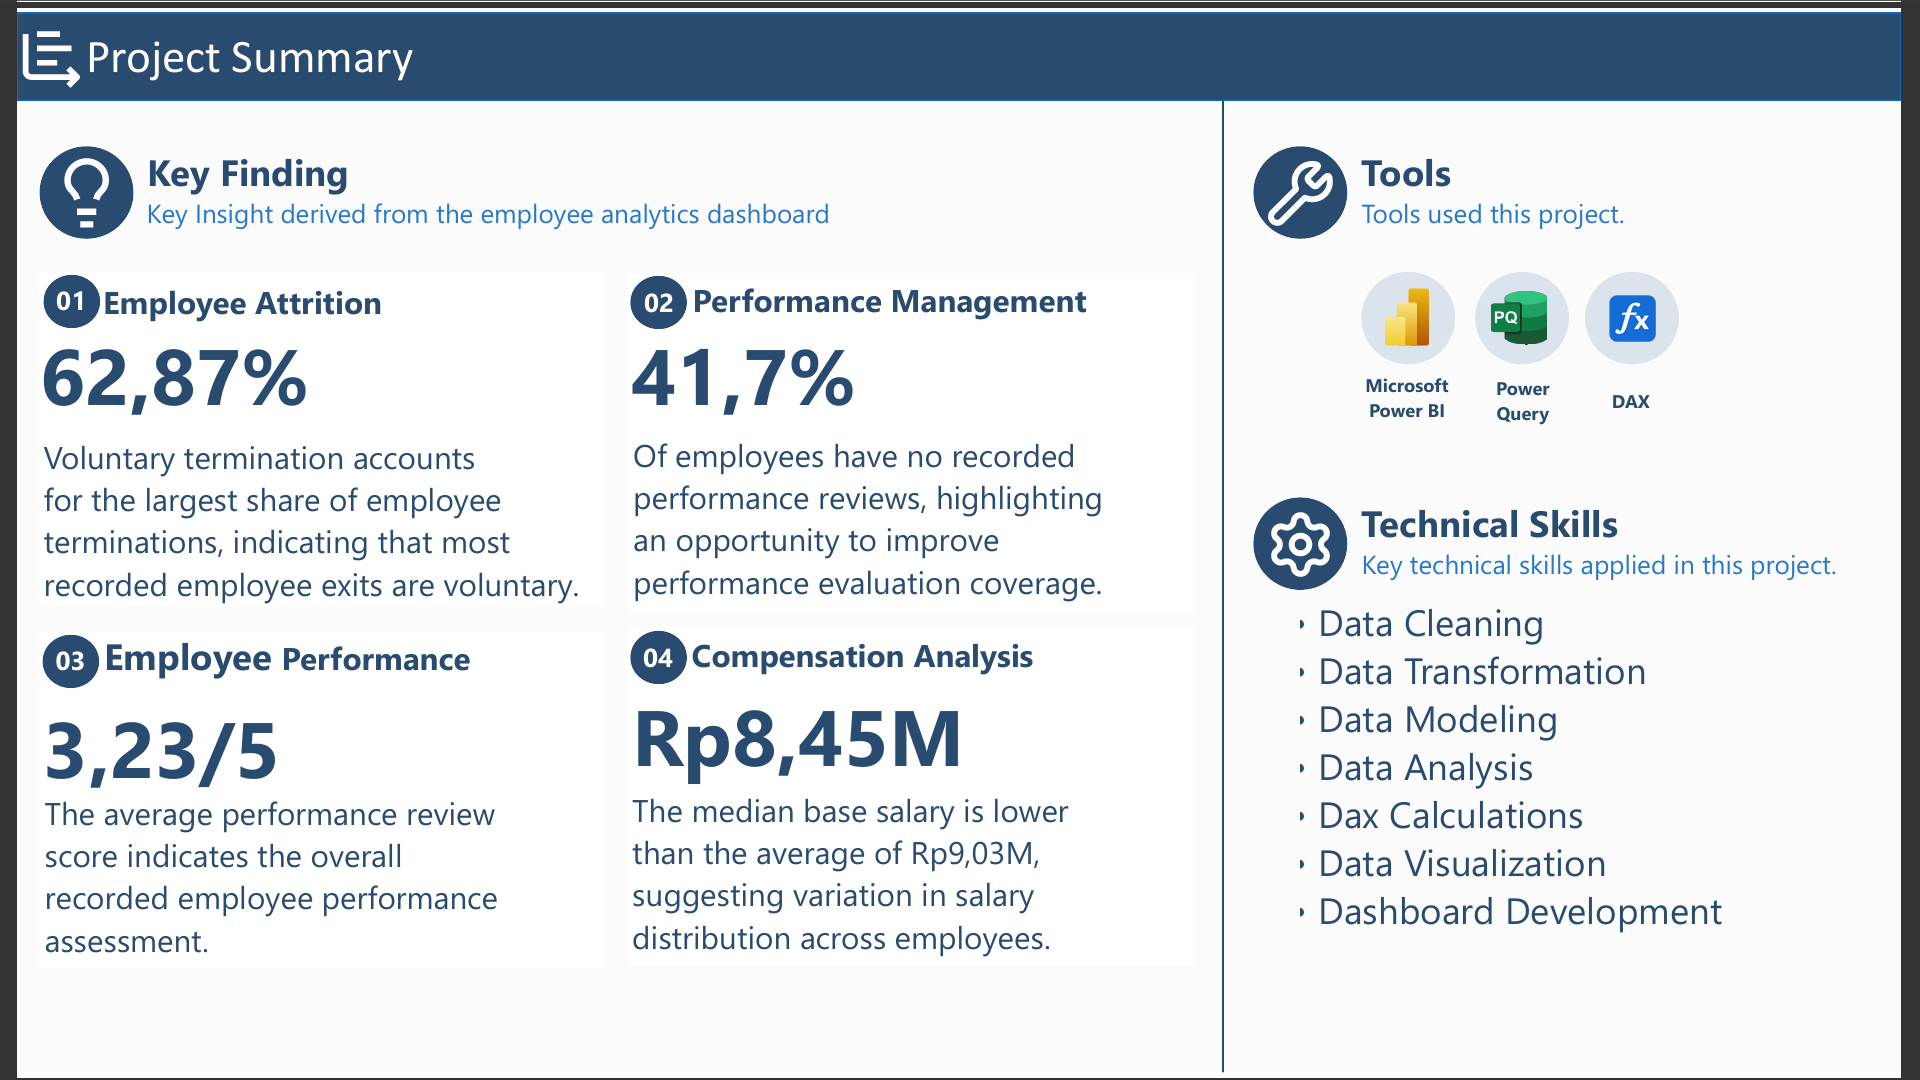

This screenshot's page, from the dashboard's own definition file:
{"tool":"powerbi","page":{"name":"Summary","canvas":[1920,1080],"ordinal":3},"visuals":[{"type":"shape","box":[0,0,1920,89.7],"z":0},{"type":"textbox","box":[70,14,750,76],"z":1000},{"type":"image","box":[0,0,70,90],"z":2000},{"type":"textbox","box":[132,136,716,94],"z":3000},{"type":"shape","box":[22.9,136.4,95.7,94.3],"z":4000},{"type":"image","box":[32.1,142.1,77.9,82.9],"z":5000},{"type":"shape","box":[23.3,263.3,576.7,343.3],"z":6000},{"type":"textbox","box":[26.7,266.7,573.3,343.3],"z":7000},{"type":"textbox","box":[22.9,314.3,295.7,105.7],"z":8000},{"type":"shape","box":[26.7,266.7,57.8,54.4],"z":9000},{"type":"textbox","box":[40,274.1,40.7,40.7],"z":10000},{"type":"shape","box":[623.3,266.7,576.7,343.3],"z":11000},{"type":"textbox","box":[627.5,265,572.5,340],"z":12000},{"type":"shape","box":[625.3,268.2,57.8,54.4],"z":13000},{"type":"textbox","box":[638.7,275.6,40.7,40.7],"z":14000},{"type":"textbox","box":[626,314,295.7,105.7],"z":15000},{"type":"shape","box":[23.3,631.1,576.7,343.3],"z":16000},{"type":"textbox","box":[27.5,630,572.5,340],"z":17000},{"type":"textbox","box":[26.7,694.4,295.7,105.7],"z":18000},{"type":"shape","box":[25.6,633.8,57.8,54.4],"z":19000},{"type":"textbox","box":[38.9,641.2,40.7,40.7],"z":20000},{"type":"shape","box":[622.5,627.5,576.7,343.3],"z":21000},{"type":"textbox","box":[626.7,626.7,538.3,348.3],"z":22000},{"type":"textbox","box":[626.7,682.2,361.1,115.6],"z":23000},{"type":"shape","box":[625.1,630.2,57.8,54.4],"z":24000},{"type":"textbox","box":[638.4,637.6,40.7,40.7],"z":25000},{"type":"shape","box":[1260,136,95.7,94.3],"z":26000},{"type":"image","box":[1272,146,72,76],"z":27000},{"type":"shape","box":[1166,90,126,990],"z":28000},{"type":"textbox","box":[1370,136,550,94],"z":29000},{"type":"shape","box":[1370,264,95.7,94.3],"z":30000},{"type":"image","box":[1387.1,277.1,58.6,65.7],"z":31000},{"type":"shape","box":[1486,264,95.7,94.3],"z":32000},{"type":"shape","box":[1598,264,95.7,94.3],"z":33000},{"type":"image","box":[1502.9,278.6,57.1,64.3],"z":34000},{"type":"image","box":[1591.4,251.4,111.4,118.6],"z":35000},{"type":"textbox","box":[1352.9,367.1,127.1,50],"z":36000},{"type":"textbox","box":[1471.4,370,127.1,50],"z":37000},{"type":"textbox","box":[1581.4,382.9,127.1,25.7],"z":38000},{"type":"shape","box":[1260,494.2,95.7,94.3],"z":39000},{"type":"image","box":[1272.5,504.2,72,76],"z":40000},{"type":"textbox","box":[1370,494.2,550,102.5],"z":41000},{"type":"textbox","box":[1307.5,595,612.5,375],"z":42000}]}

Visuals, with their boxes in screenshot pixels (x1, y1, x2, y2), scaled from the page's 1920x1080 canvas onto the 1920x1080 screenshot:
shape: l=0, t=0, r=1919, b=90
textbox: l=70, t=14, r=820, b=90
image: l=0, t=0, r=70, b=90
textbox: l=132, t=136, r=848, b=230
shape: l=23, t=136, r=119, b=231
image: l=32, t=142, r=110, b=225
shape: l=23, t=263, r=600, b=607
textbox: l=27, t=267, r=600, b=610
textbox: l=23, t=314, r=319, b=420
shape: l=27, t=267, r=84, b=321
textbox: l=40, t=274, r=81, b=315
shape: l=623, t=267, r=1200, b=610
textbox: l=628, t=265, r=1200, b=605
shape: l=625, t=268, r=683, b=323
textbox: l=639, t=276, r=679, b=316
textbox: l=626, t=314, r=922, b=420
shape: l=23, t=631, r=600, b=974
textbox: l=28, t=630, r=600, b=970
textbox: l=27, t=694, r=322, b=800
shape: l=26, t=634, r=83, b=688
textbox: l=39, t=641, r=80, b=682
shape: l=622, t=628, r=1199, b=971
textbox: l=627, t=627, r=1165, b=975
textbox: l=627, t=682, r=988, b=798
shape: l=625, t=630, r=683, b=685
textbox: l=638, t=638, r=679, b=678
shape: l=1260, t=136, r=1356, b=230
image: l=1272, t=146, r=1344, b=222
shape: l=1166, t=90, r=1292, b=1079
textbox: l=1370, t=136, r=1919, b=230
shape: l=1370, t=264, r=1466, b=358
image: l=1387, t=277, r=1446, b=343
shape: l=1486, t=264, r=1582, b=358
shape: l=1598, t=264, r=1694, b=358
image: l=1503, t=279, r=1560, b=343
image: l=1591, t=251, r=1703, b=370
textbox: l=1353, t=367, r=1480, b=417
textbox: l=1471, t=370, r=1598, b=420
textbox: l=1581, t=383, r=1708, b=409
shape: l=1260, t=494, r=1356, b=588
image: l=1272, t=504, r=1344, b=580
textbox: l=1370, t=494, r=1919, b=597
textbox: l=1308, t=595, r=1919, b=970
